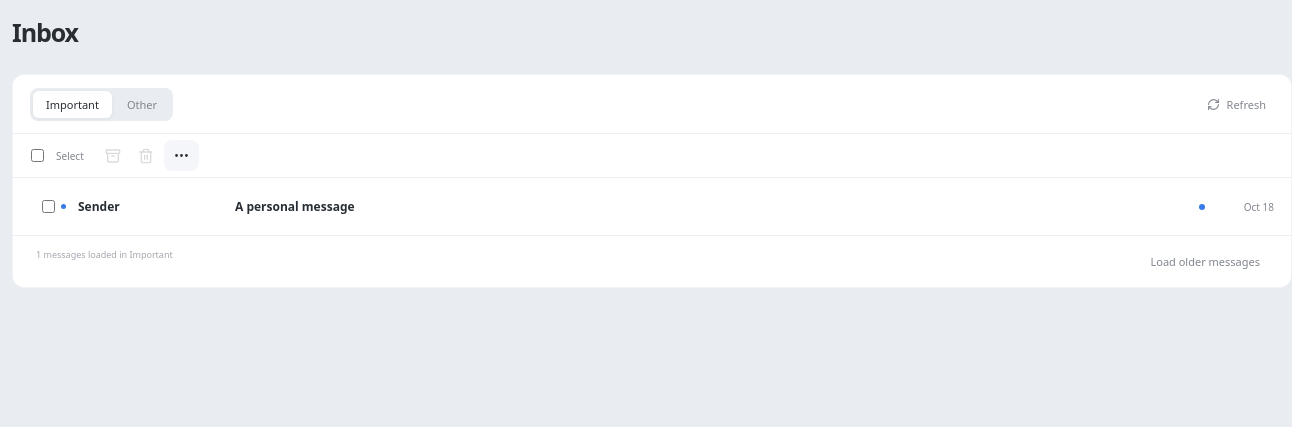
Scenario: personal Outlook reader › loads older pages without duplicates and preserves the selected category
The image size is (1292, 427).
Click the button "Load older messages". click: [1205, 262]
box: [1142,248,1268,275]
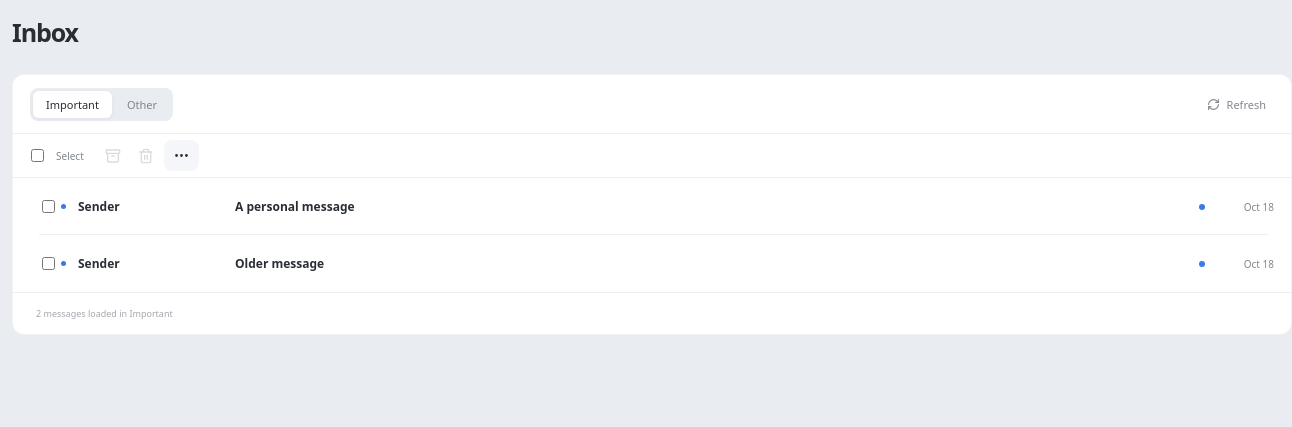
Expected: the text "Older message" is shown, [235,255,324,272]
Now the number of elements with class "mail-row" is 2, box [13,178,1291,235]; [13,235,1291,292]
Click the button "Other". click: [142, 104]
box: [114,90,170,118]
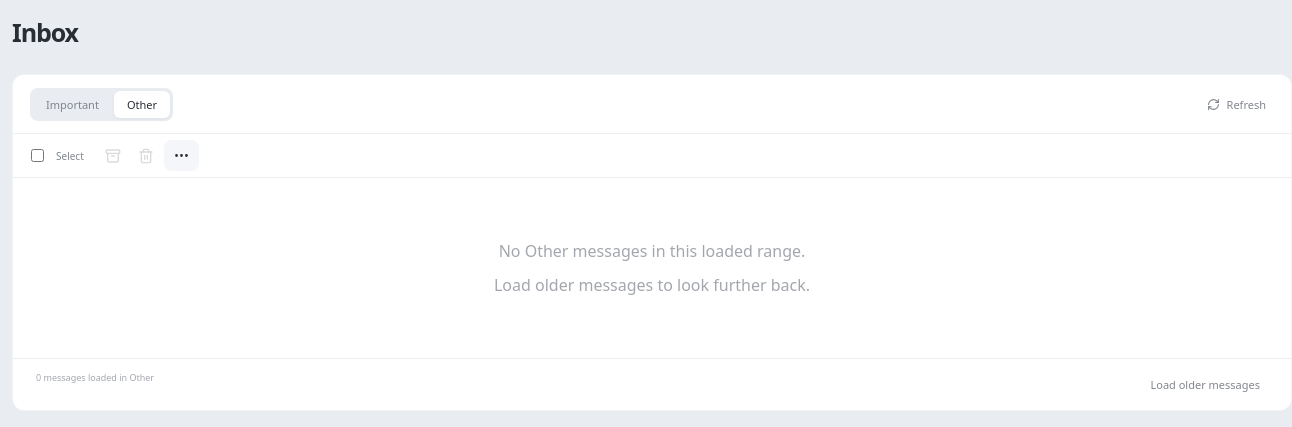
Expected: the text "Older message" is not shown
Now the text "Load older messages" is shown, box [494,274,810,296]
